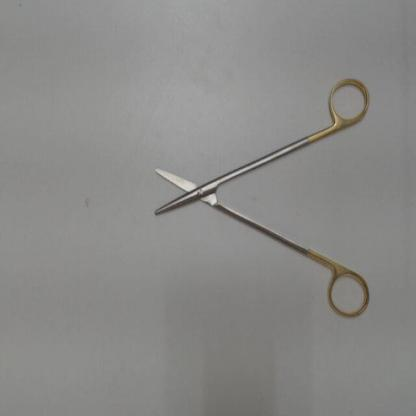7 Metzenbaum Scissors: (147, 72, 375, 323)
